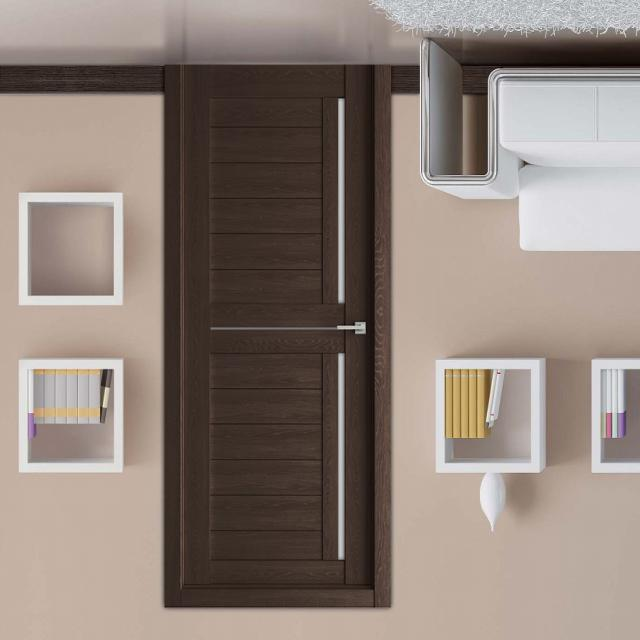close: (177, 64, 381, 594)
